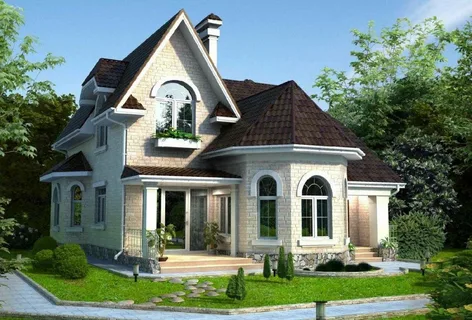private_hause: (67, 32, 401, 263)
